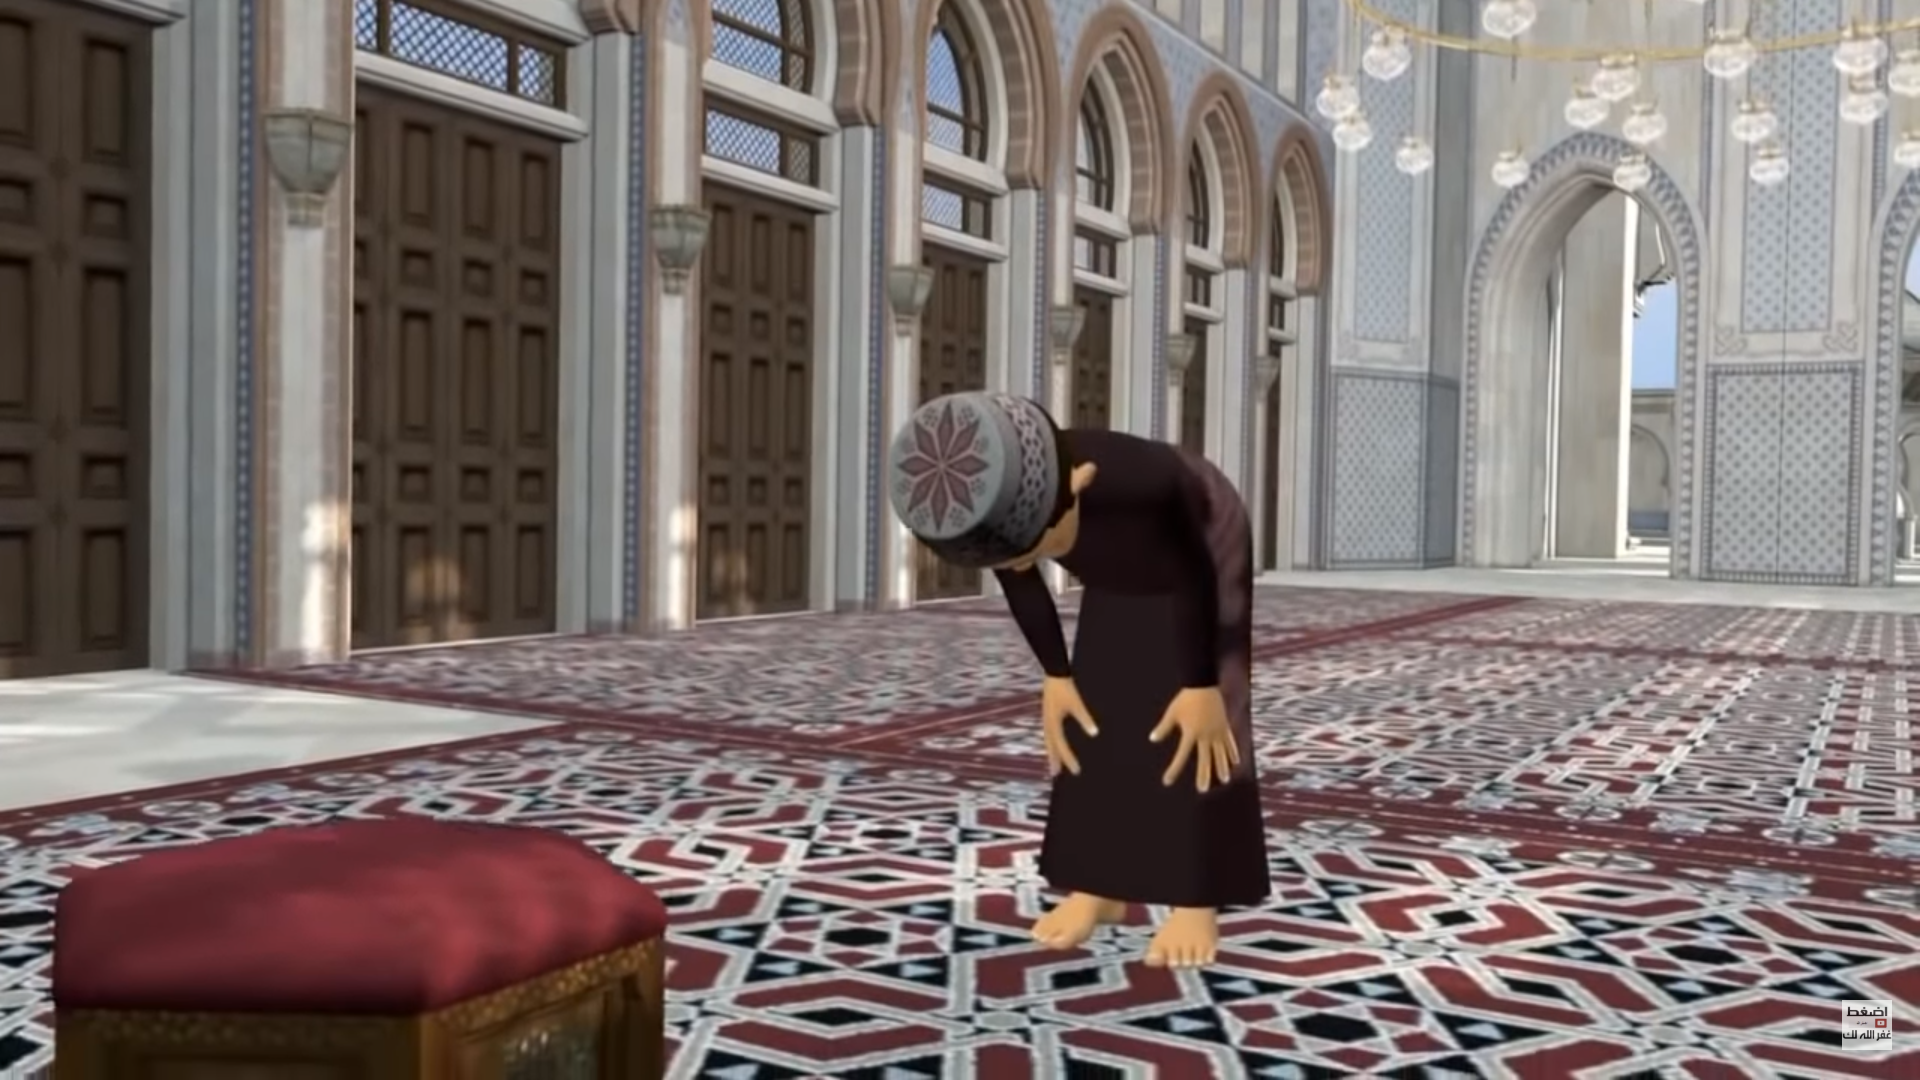ruku: (674, 371, 1604, 1007)
